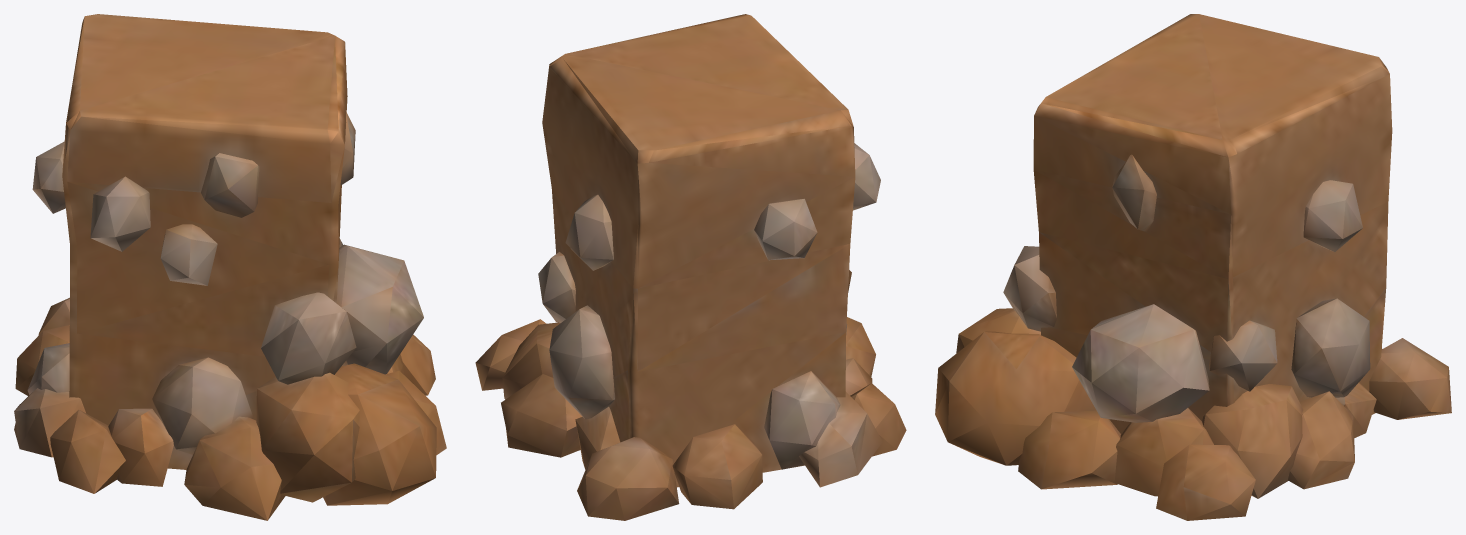
The model's file is bloque_tierra_0.glb.
The picture shows the model from 3 angles, left to right: view 1: azimuth 30°, elevation 25°; view 2: azimuth 150°, elevation 25°; view 3: azimuth 270°, elevation 25°; orthographic projection. The views are drawn at different scales.
Parts seen in each view (by area): view 1: bloque_tierra_0_malla; view 2: bloque_tierra_0_malla; view 3: bloque_tierra_0_malla.
Boxes of the visible parts, bbox=[...] form: bloque_tierra_0_malla: bbox=[14, 14, 446, 520]; bloque_tierra_0_malla: bbox=[475, 14, 906, 520]; bloque_tierra_0_malla: bbox=[935, 14, 1451, 520].
Bounding box in the file's own units: 0.2395 × 0.2109 × 0.2798.
1 material, 1 textured.
